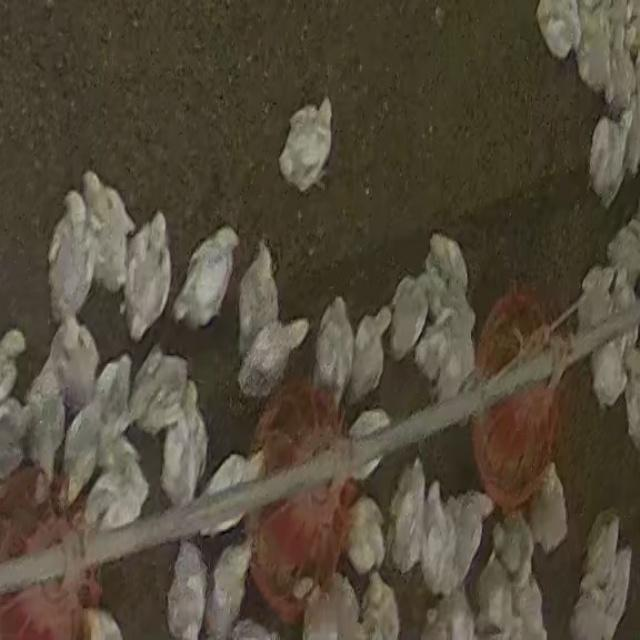chicken: (30, 314, 96, 423), (82, 434, 150, 536), (127, 341, 197, 439), (235, 315, 310, 401), (81, 168, 131, 293), (160, 384, 208, 511), (122, 211, 172, 332), (177, 227, 239, 324), (571, 547, 634, 640), (48, 186, 90, 325), (236, 238, 282, 364), (438, 487, 490, 597), (278, 95, 335, 193), (197, 451, 259, 538), (205, 536, 253, 640), (63, 400, 113, 498), (418, 479, 459, 594), (312, 294, 354, 402), (588, 107, 634, 203), (25, 391, 63, 506), (348, 305, 392, 404), (389, 462, 427, 576), (167, 538, 209, 640), (91, 352, 135, 447), (570, 3, 615, 95), (438, 301, 477, 406), (528, 464, 570, 555), (472, 549, 516, 635), (388, 273, 430, 359), (572, 264, 618, 340), (346, 409, 394, 480), (345, 496, 386, 576), (602, 22, 638, 111), (290, 573, 337, 640), (581, 514, 620, 594), (492, 512, 534, 585), (426, 230, 471, 298), (357, 570, 401, 638), (420, 592, 478, 640), (590, 336, 626, 411), (536, 1, 580, 62), (605, 219, 640, 288), (0, 328, 27, 411), (621, 340, 640, 442)
